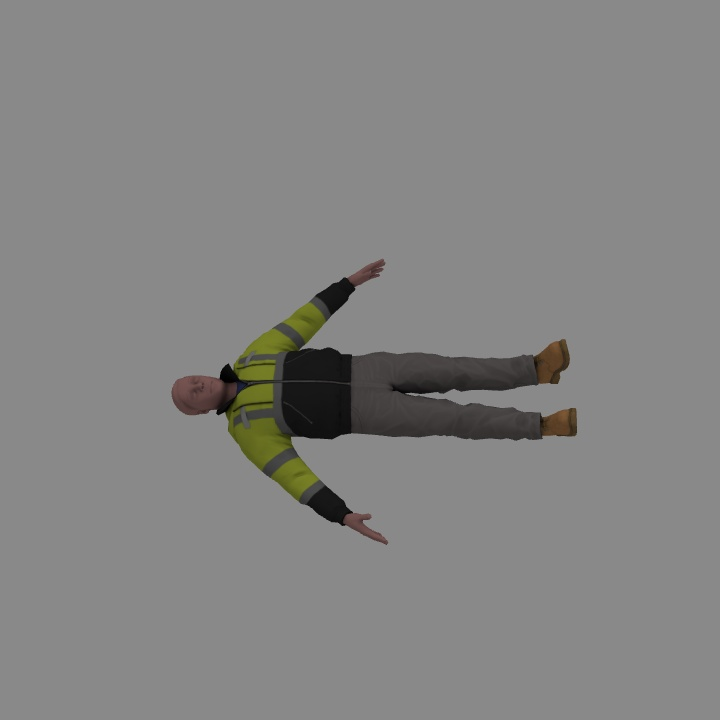victim: (175, 258, 577, 547)
